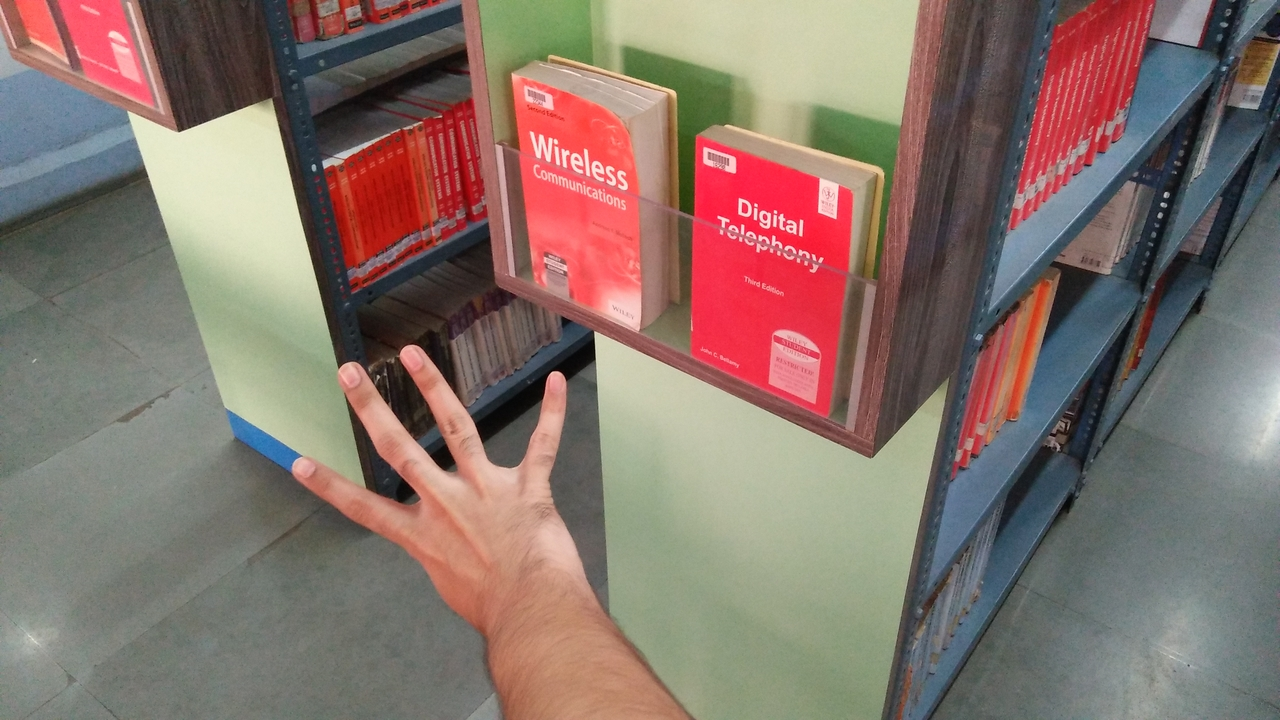fingertip: (526, 364, 580, 410), (327, 355, 369, 397), (398, 338, 436, 381), (283, 450, 324, 488)
